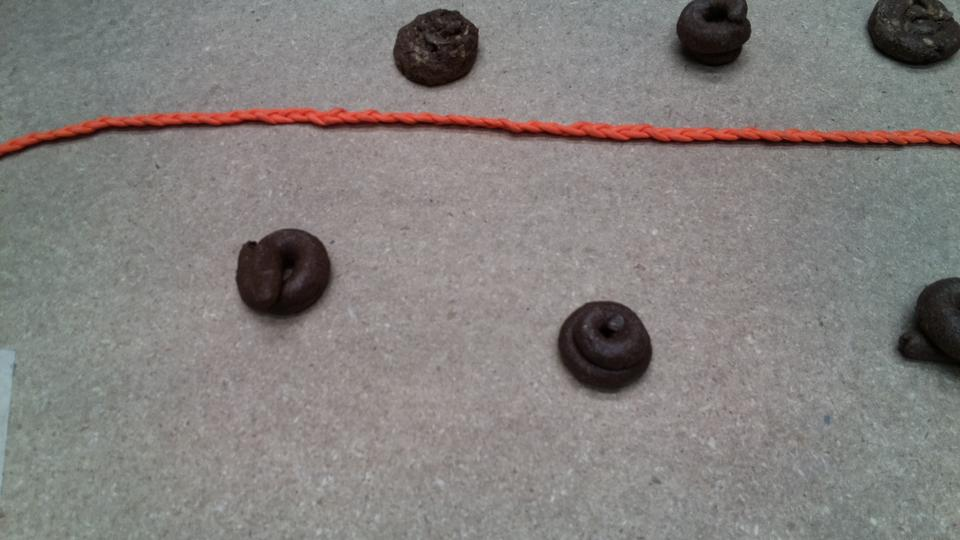poop: (555, 296, 656, 397), (235, 225, 335, 322), (386, 6, 494, 90), (891, 270, 960, 381), (861, 2, 960, 70), (665, 1, 758, 72)
rope: (349, 96, 960, 167), (2, 106, 356, 153)
